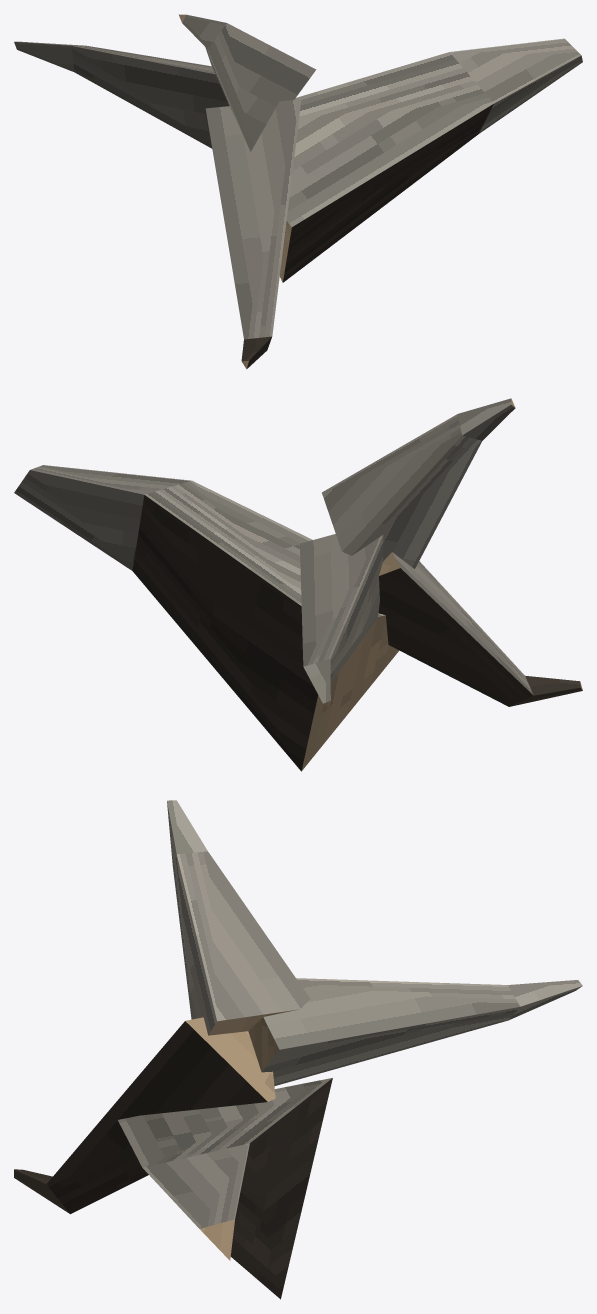
File: loose-root-plate-far.glb
3 renders of one model, top to bottom at view 1: azimuth 30°, elevation 25°; view 2: azimuth 150°, elevation 25°; view 3: azimuth 270°, elevation 25°, orthographic. The views are drawn at different scales.
Parts seen in each view (by area): view 1: loose-root-plate.001; view 2: loose-root-plate.001; view 3: loose-root-plate.001.
Part boxes in pixels (x1=…): loose-root-plate.001: x1=14, y1=14, x2=582, y2=369; loose-root-plate.001: x1=14, y1=398, x2=582, y2=771; loose-root-plate.001: x1=14, y1=800, x2=582, y2=1299.
Bounding box in the file's own units: 2.49 × 1.88 × 2.34.
3 materials, 3 textured.
